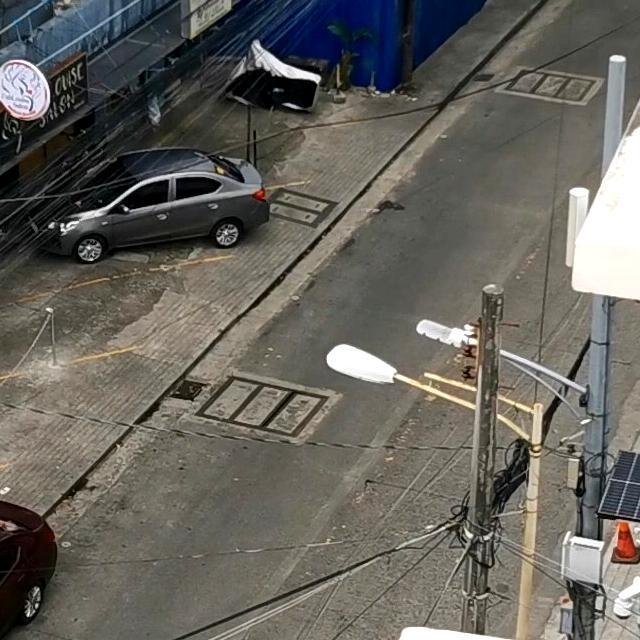Car: (35, 147, 266, 260)
